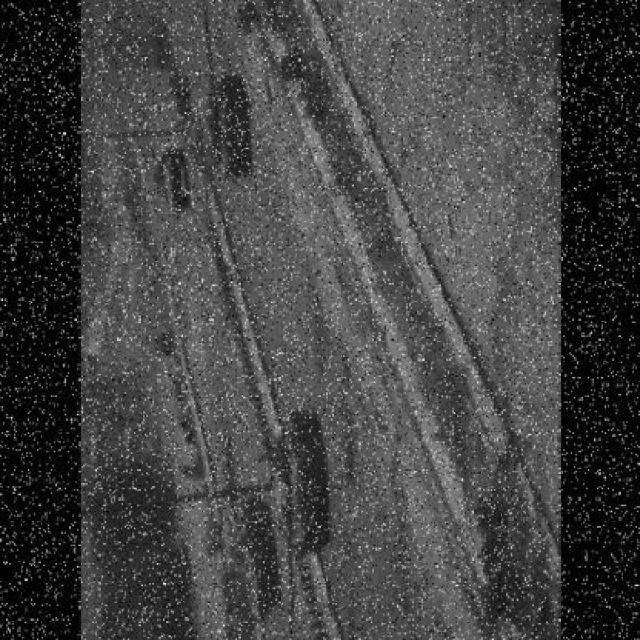Tank: (251, 384, 340, 640), (180, 1, 269, 201), (206, 482, 287, 636), (141, 127, 196, 232)
